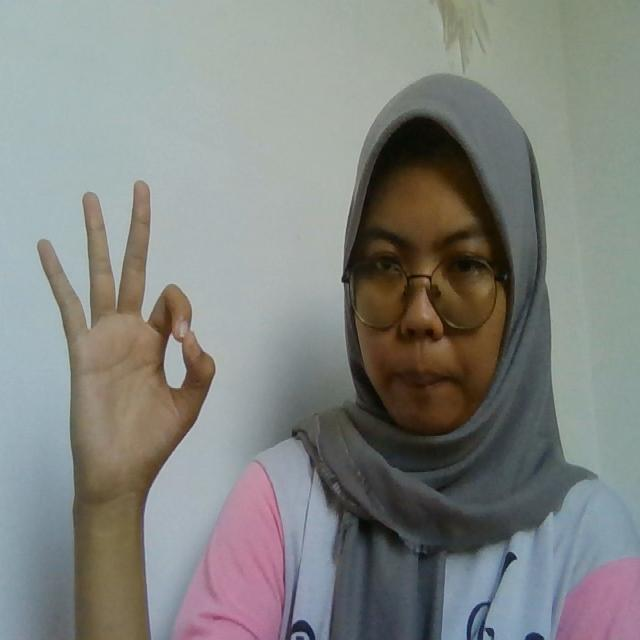F: (37, 180, 217, 491)
